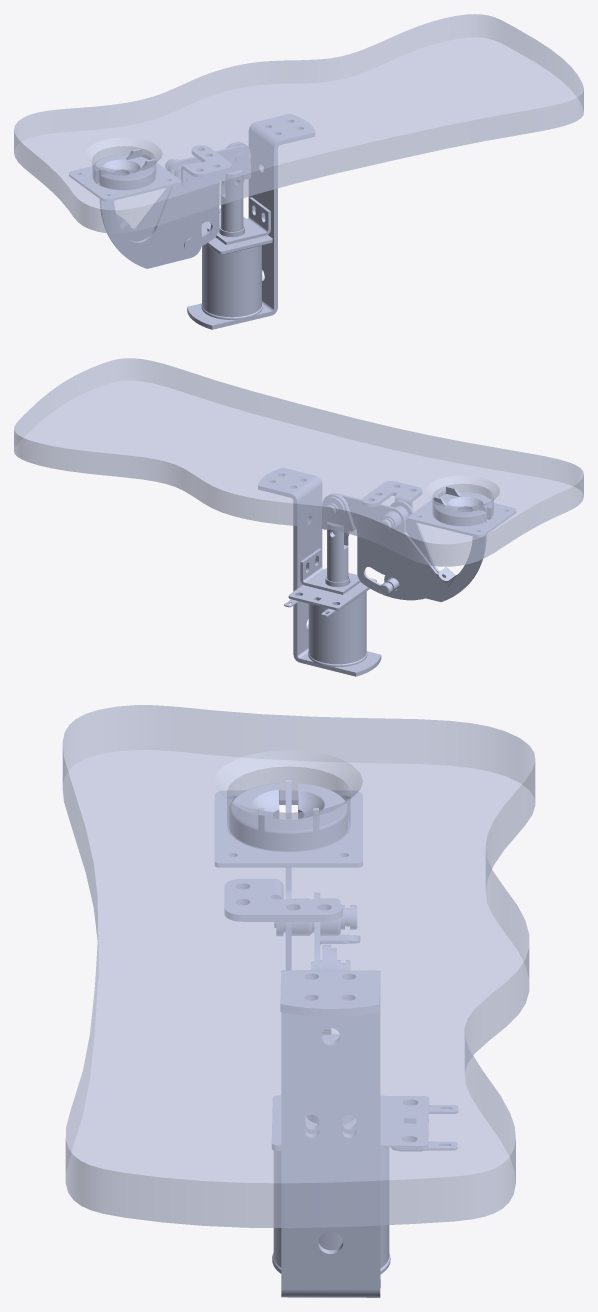
File: Kickout Hole, Sys 7.fbx
3 views of the same model, one above another, from view 1: azimuth 30°, elevation 25°; view 2: azimuth 150°, elevation 25°; view 3: azimuth 270°, elevation 25° (orthographic). The views are drawn at different scales.
Parts seen in each view (by area): view 1: PF Section, Ball Thrower Bkt, Coil SG-23 850-DC, Ball Thrower Linkage B, Kickout Hole SYS7, Ball Thrower Linkage A, Plunger Sys & Ball Thrower, Ball Thrower Pivot Bkt, Coil Mounting BKT; view 2: PF Section, Ball Thrower Linkage A, Ball Thrower Bkt, Coil SG-23 850-DC, Kickout Hole SYS7, Ball Thrower Linkage B, Plunger Sys & Ball Thrower, Coil Mounting BKT, Ball Thrower Pivot Bkt, Ball Thrower Plunger Link; view 3: PF Section, Ball Thrower Bkt, Kickout Hole SYS7, Coil SG-23 850-DC, Ball Thrower Pivot Bkt, Ball Thrower Linkage B.
Part boxes in pixels (x1,y1,x2,y2): PF Section: [14, 14, 583, 233]; Ball Thrower Bkt: [187, 114, 314, 329]; Coil SG-23 850-DC: [201, 208, 272, 319]; Ball Thrower Linkage B: [99, 164, 201, 268]; Kickout Hole SYS7: [69, 148, 181, 201]; Ball Thrower Linkage A: [117, 145, 250, 245]; Plunger Sys & Ball Thrower: [221, 170, 243, 231]; Ball Thrower Pivot Bkt: [181, 145, 231, 188]; Coil Mounting BKT: [207, 197, 270, 244]; PF Section: [14, 358, 583, 566]; Ball Thrower Linkage A: [339, 494, 455, 600]; Ball Thrower Bkt: [258, 468, 381, 676]; Coil SG-23 850-DC: [284, 568, 376, 666]; Kickout Hole SYS7: [408, 486, 516, 536]; Ball Thrower Linkage B: [391, 501, 486, 601]; Plunger Sys & Ball Thrower: [327, 522, 348, 582]; Coil Mounting BKT: [300, 548, 360, 594]; Ball Thrower Pivot Bkt: [362, 481, 422, 508]; Ball Thrower Plunger Link: [322, 493, 355, 539]; PF Section: [62, 705, 535, 1228]; Ball Thrower Bkt: [280, 970, 380, 1297]; Kickout Hole SYS7: [214, 783, 362, 867]; Coil SG-23 850-DC: [272, 1095, 457, 1274]; Ball Thrower Pivot Bkt: [224, 878, 342, 935]; Ball Thrower Linkage B: [285, 779, 291, 969].
Bounding box in the file's own units: 29.04 × 10.8 × 12.14.
